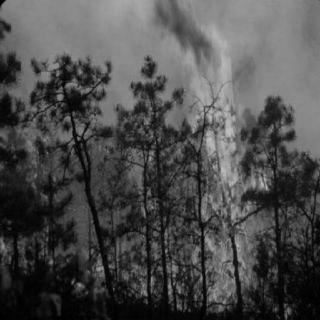Fire: (155, 2, 277, 312)
